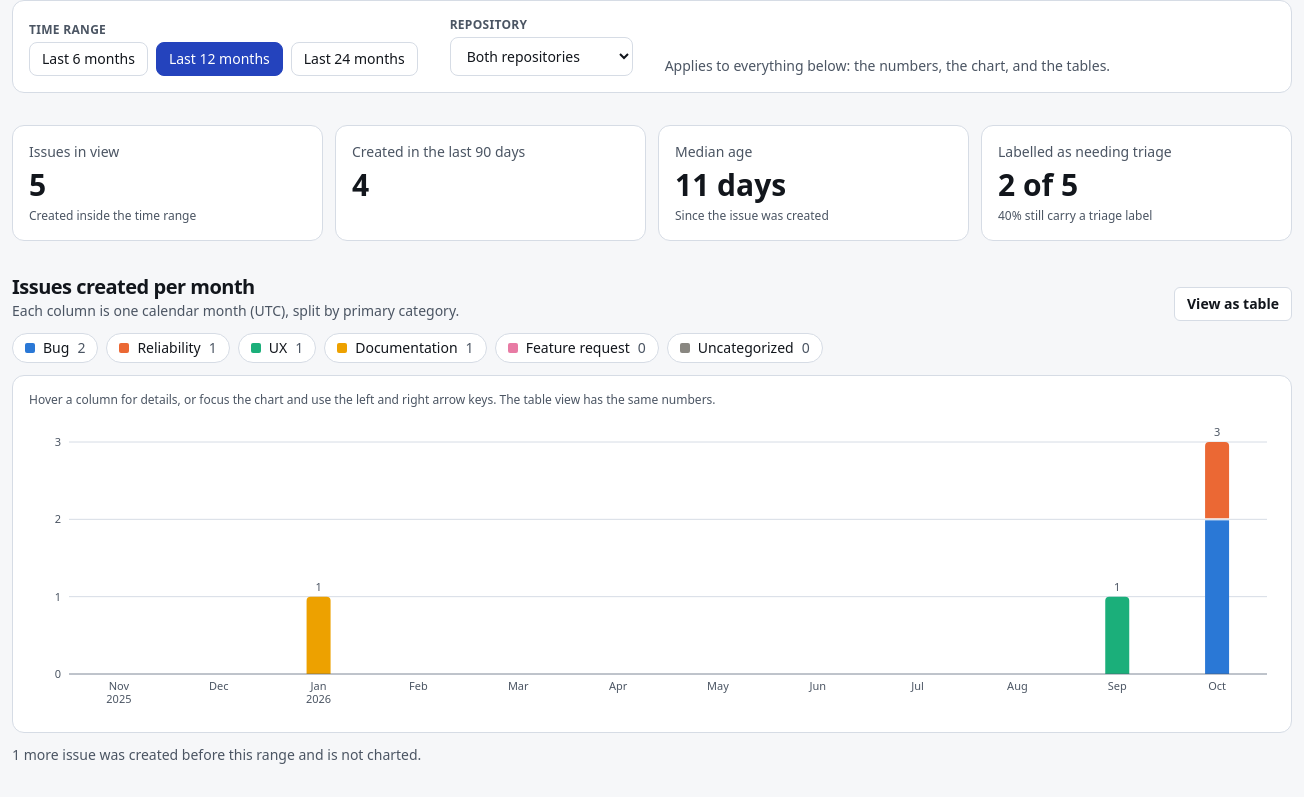
Test: TrendsView › limits the tooltip to the series that are shown
Click the button "Bug 2": [55, 348] box [12,332,98,362]
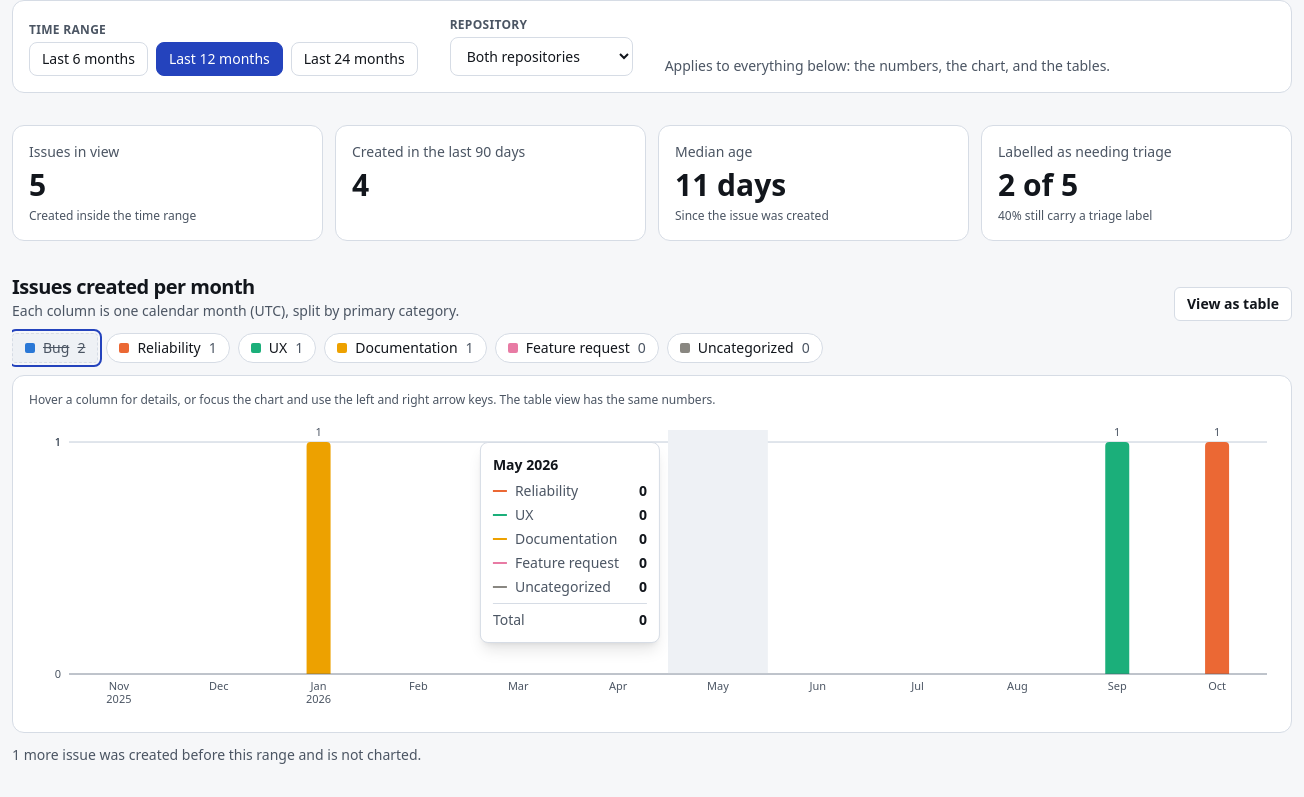
Expected: the text "Bug" is not shown
Now the element that starts with "May 2026" shows "Reliability", box [515,480,578,500]
